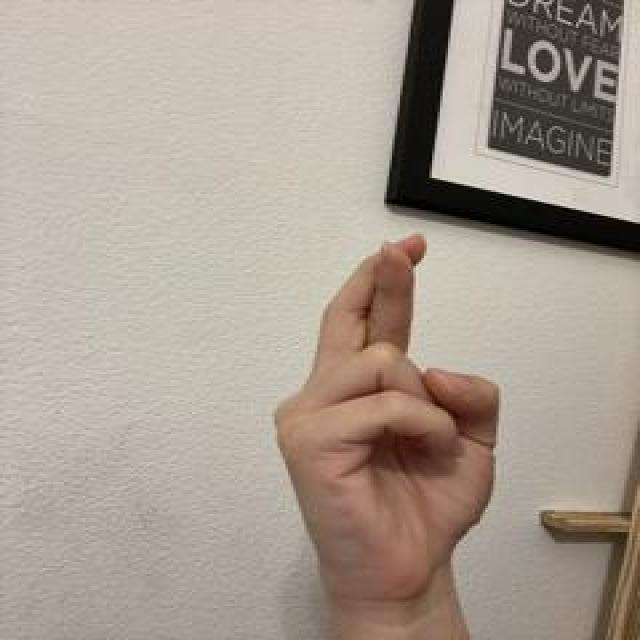R: (265, 227, 508, 609)
